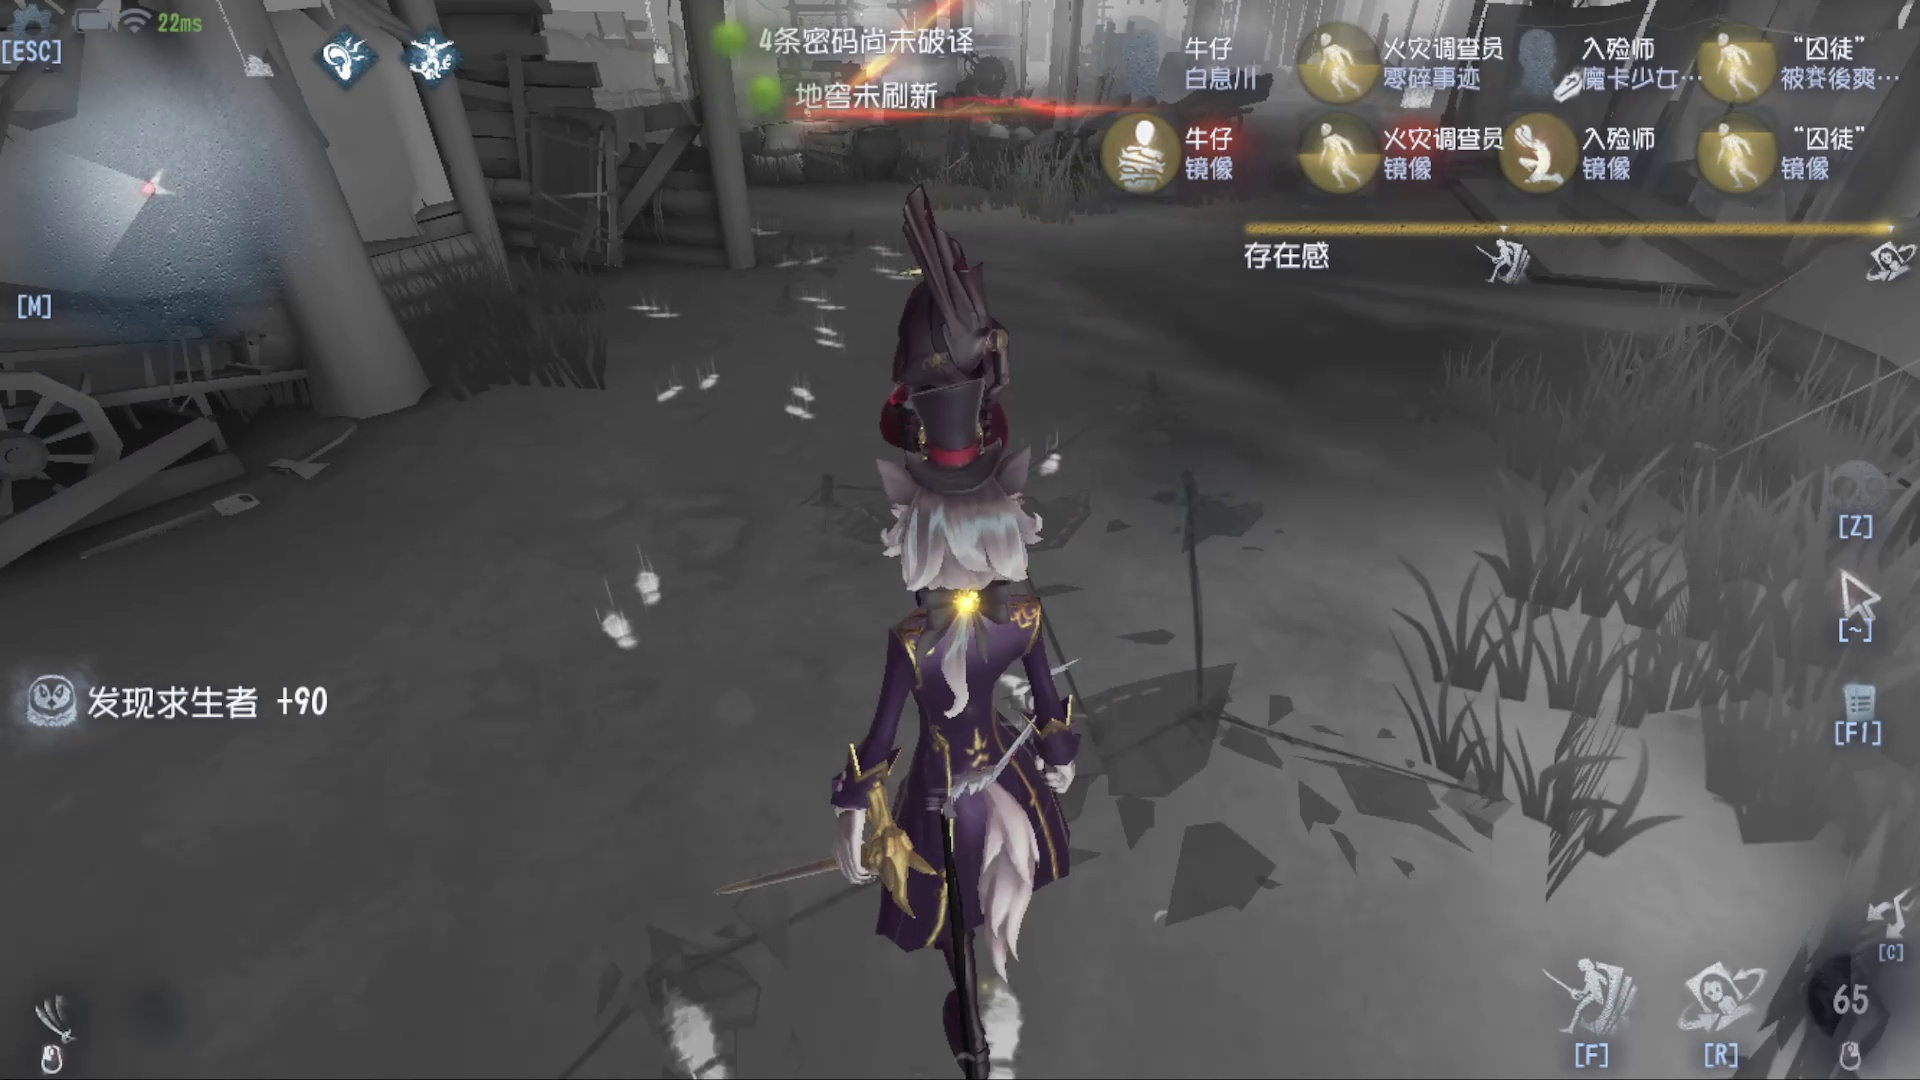木板: (506, 88, 640, 285)
